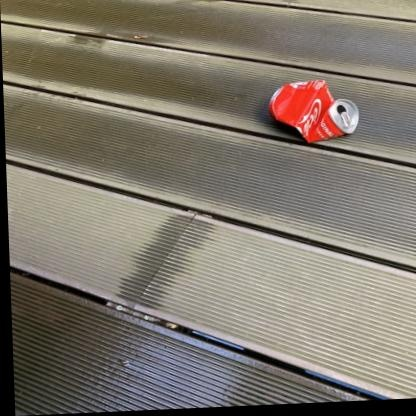trash: (269, 80, 358, 142)
